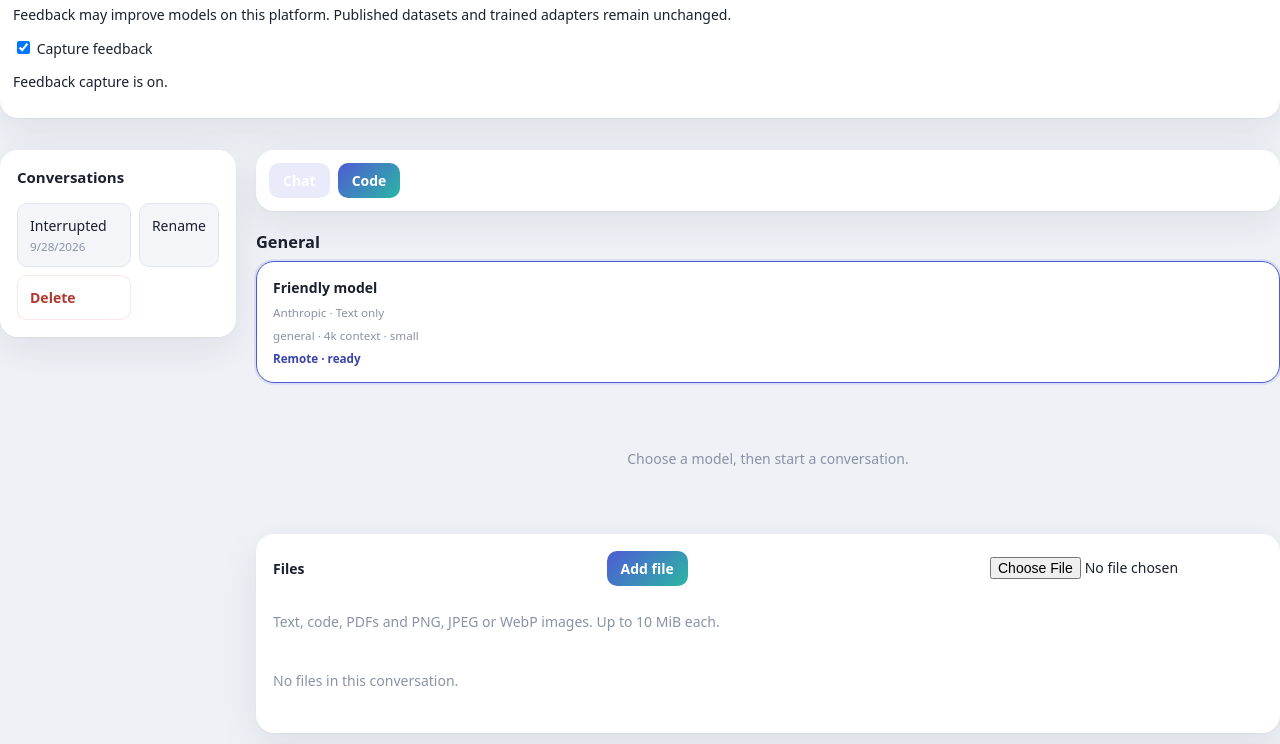
Test: explicit retry keeps the partial answer and does not duplicate the user input
Click the button "Interrupted 9/28/2026": click(74, 235) [17,203,131,267]
(page scrolled)
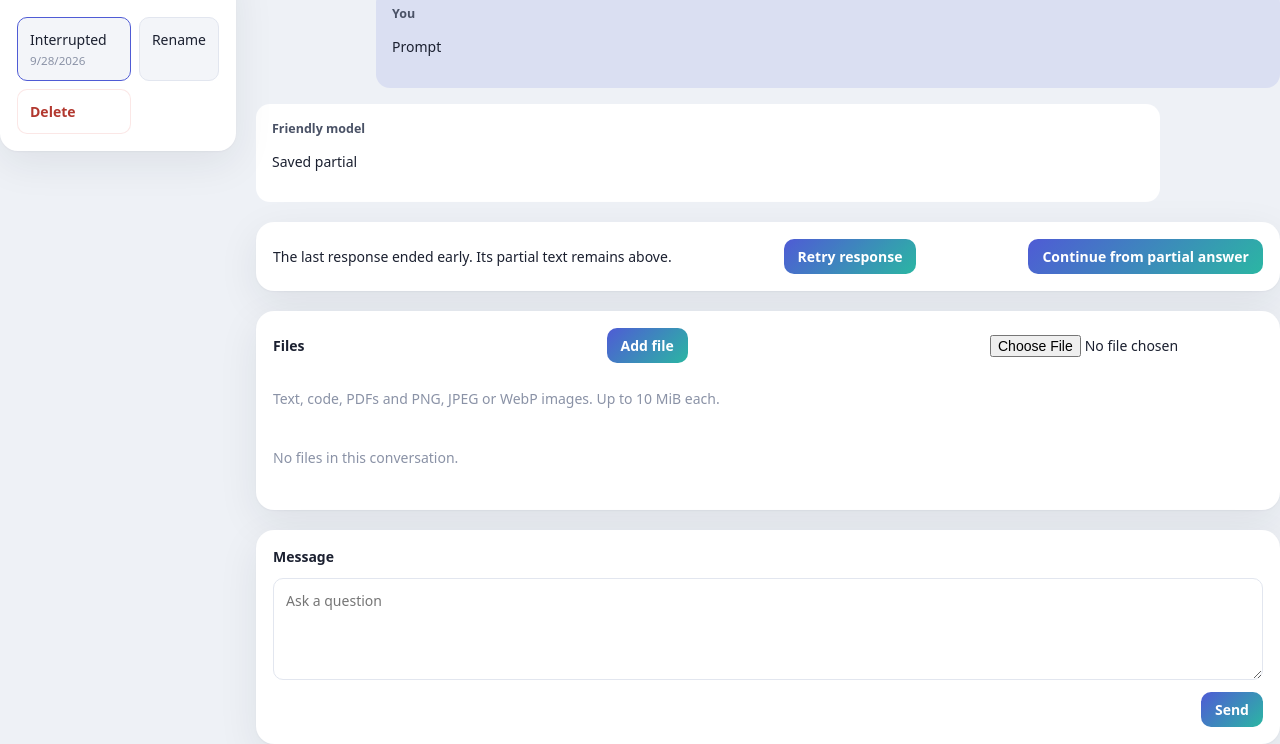
Expected: the button "Retry response" is enabled, [784,239,916,274]
In the text box labelled "Message": (768, 629) [273,578,1263,680], type "New unsent draft"
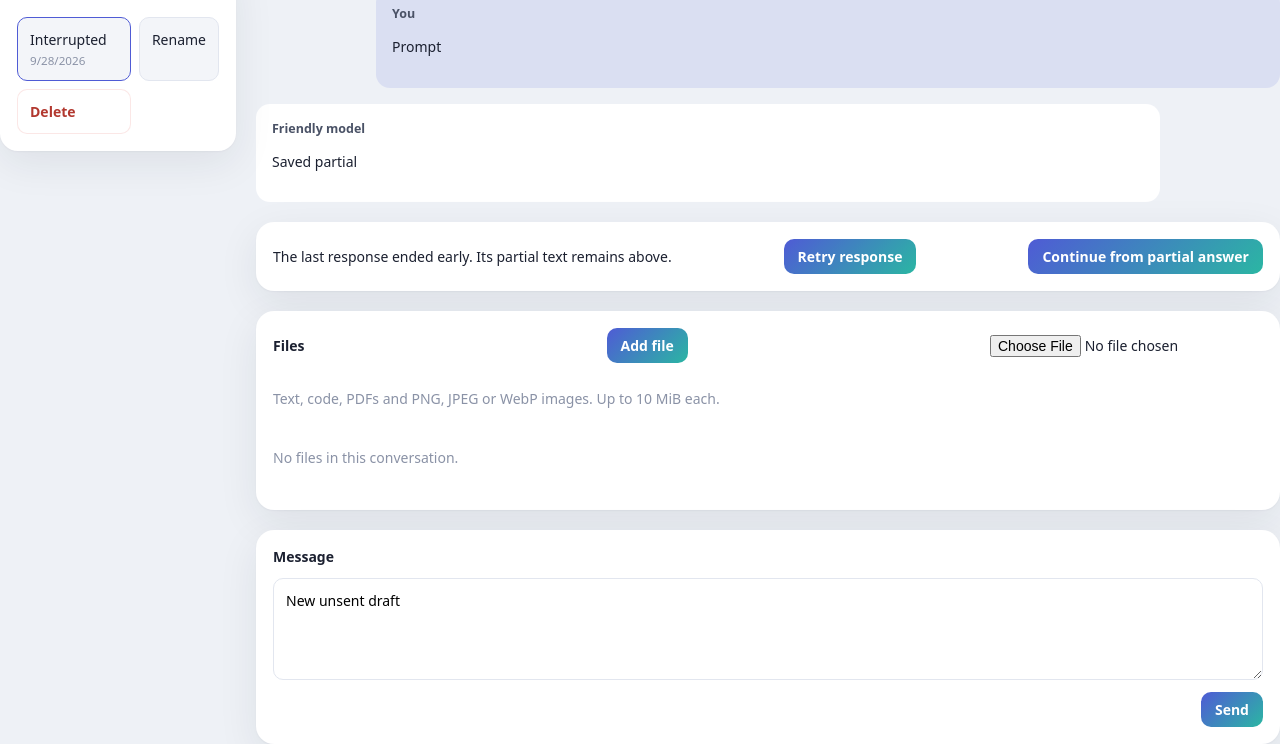
Click the button "Retry response": click(850, 257) [784,239,916,274]
(page scrolled)
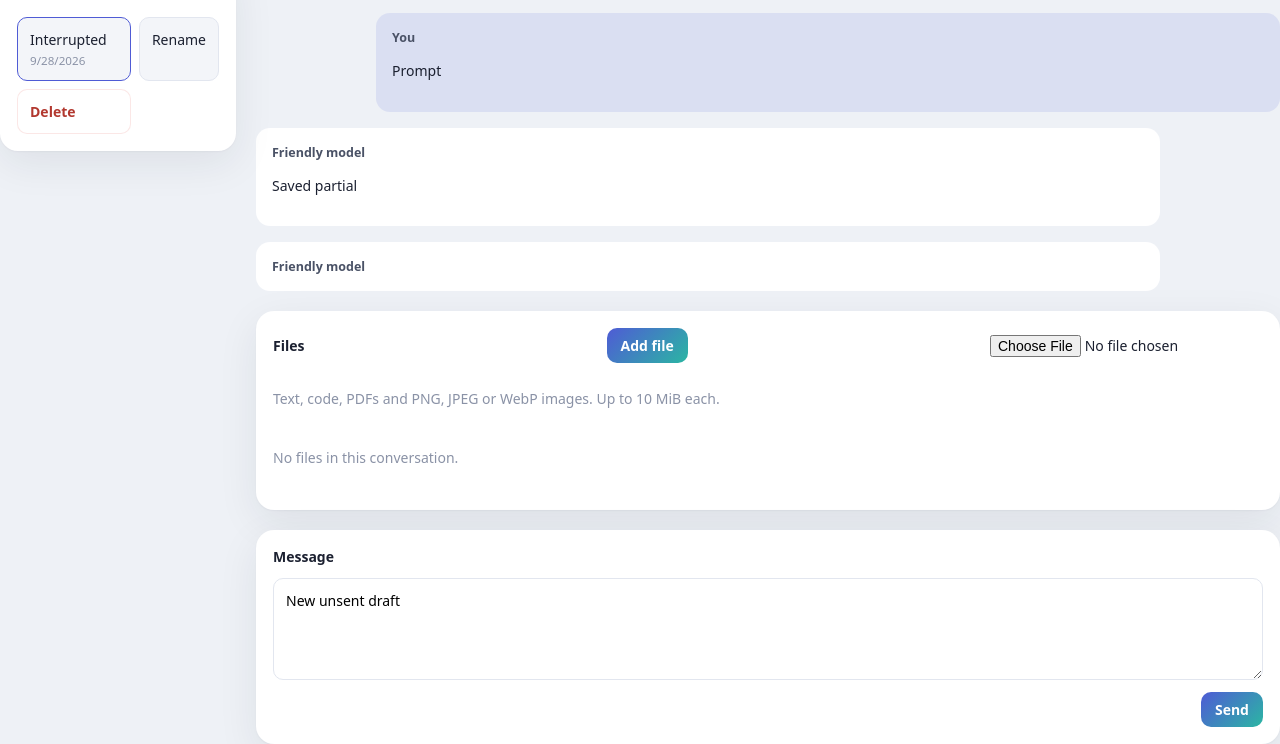
Expected: the text "Saved partial" is shown, [272,176,357,194]
Expected: the number of elements with class "assistant" is 2, [256,128,1160,226]; [256,242,1160,291]
Expected: the number of elements with class "user" is 1, [376,13,1279,112]
